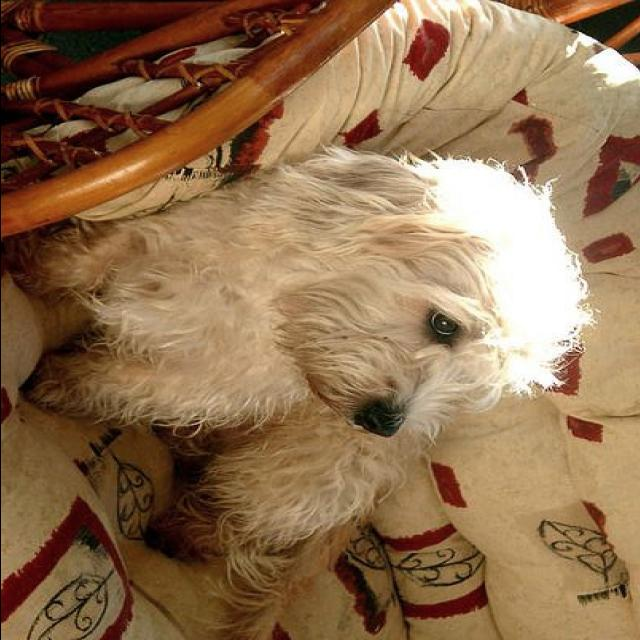dandie_dinmont: (12, 156, 576, 636)
